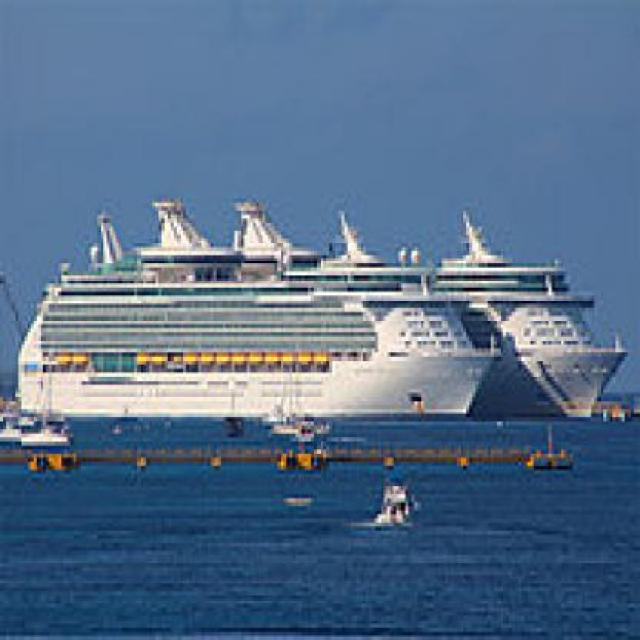cruise: (4, 191, 510, 434)
